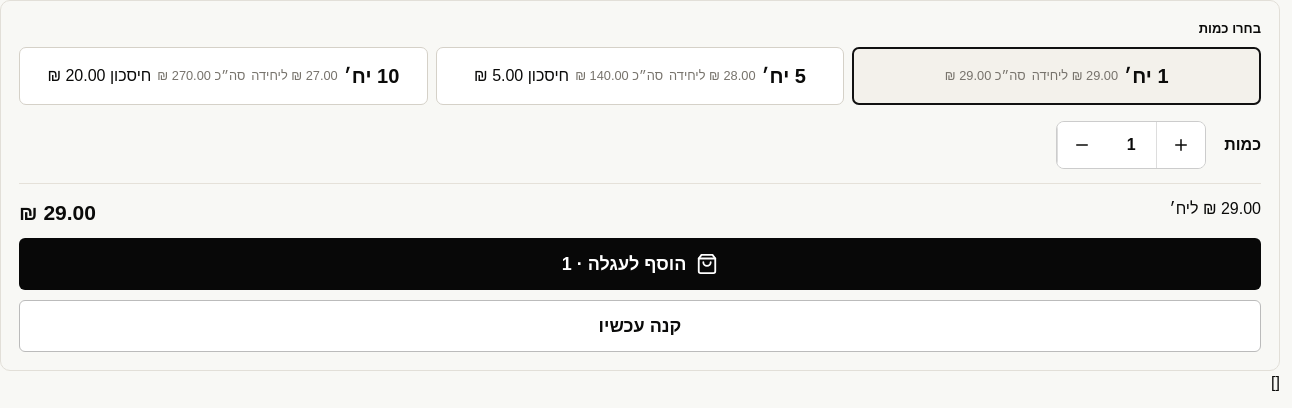
Scenario: shows helper-derived unit price, total and only positive savings for every tier
Expected: the button with aria-label "1 יחידות, 29.00 ₪ ליחידה, סה״כ 29.00 ₪" is shown, [852,46,1261,104]
Expected: the button with aria-label "5 יחידות, 28.00 ₪ ליחידה, סה״כ 140.00 ₪, חיסכון 5.00 ₪" is shown, [436,46,844,104]
Click the button with aria-label "10 יחידות, 27.00 ₪ ליחידה" at (223, 76), box [19,46,428,104]
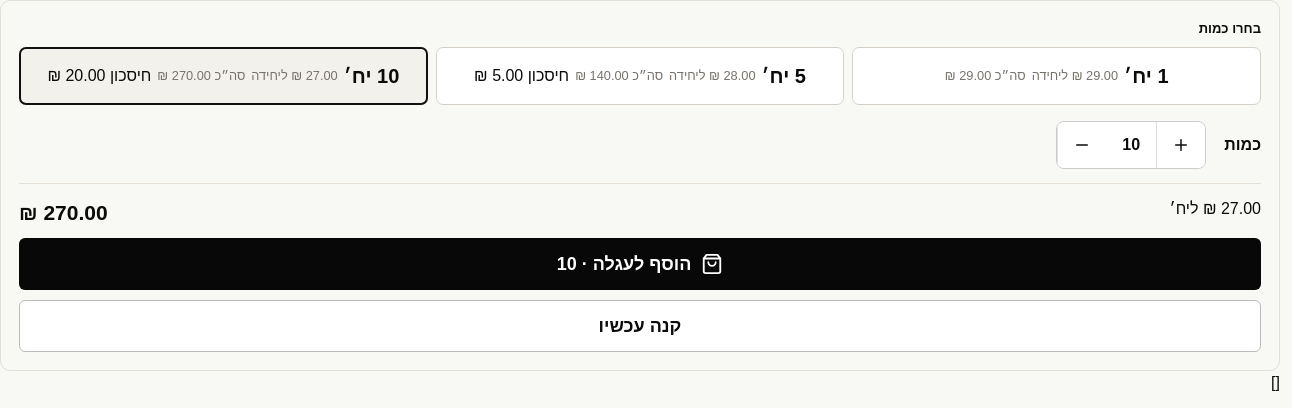
Now the text "270.00 ₪" is shown, box [19,196,108,228]
